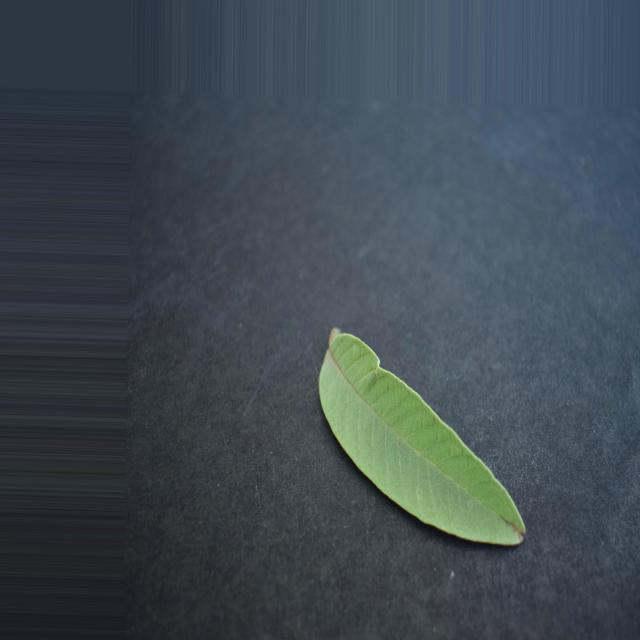Healthy: (319, 328, 525, 546)
